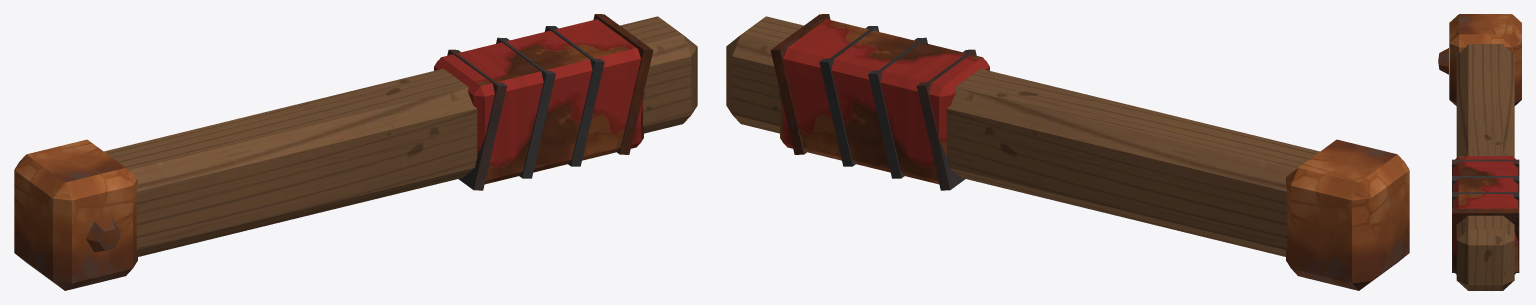
The model's file is Loot_Handle.glb.
3 views of the same model, side by side, from view 1: azimuth 30°, elevation 25°; view 2: azimuth 150°, elevation 25°; view 3: azimuth 270°, elevation 25° (orthographic). The views are drawn at different scales.
Visible parts, largest first — view 1: Loot_Handle; view 2: Loot_Handle; view 3: Loot_Handle.
Part boxes in pixels (left/top/right/bottom): Loot_Handle: left=14, top=14, right=697, bottom=290; Loot_Handle: left=726, top=14, right=1409, bottom=290; Loot_Handle: left=1438, top=14, right=1521, bottom=290.
Size of the model in its own units: 0.535 by 0.085 by 0.0867.
Materials: 4 (4 with a texture image).
